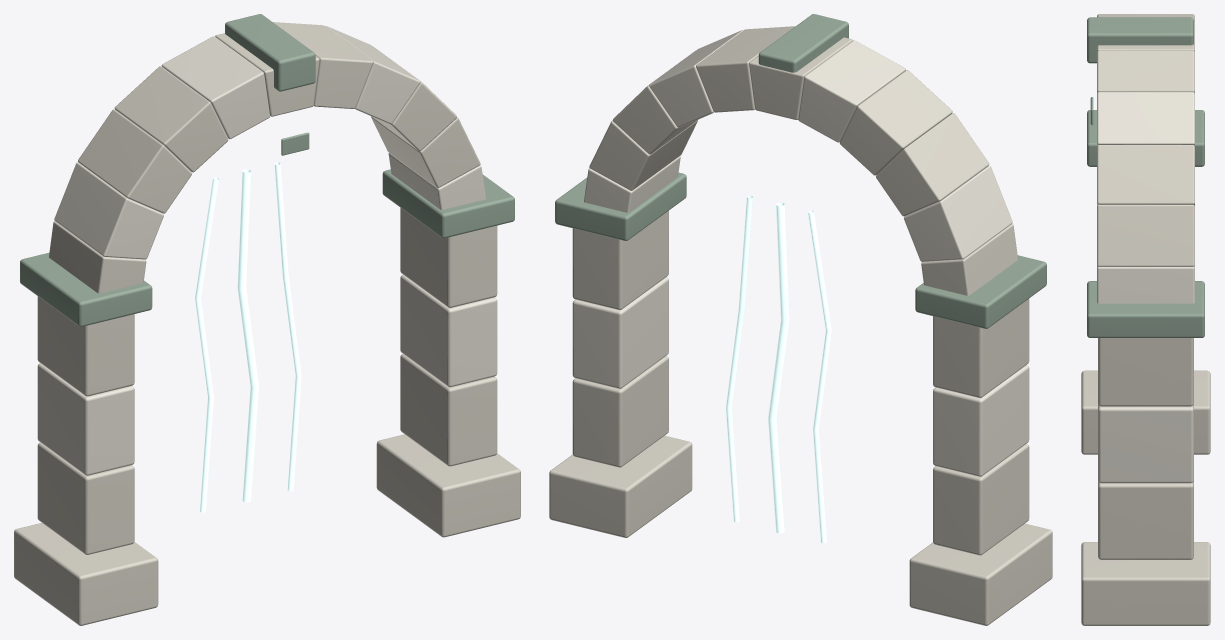
The model's file is BG_MEC_SURFACE_EXIT_001.glb.
3 renders of one model, left to right at view 1: azimuth 30°, elevation 25°; view 2: azimuth 150°, elevation 25°; view 3: azimuth 270°, elevation 25°, orthographic. The views are drawn at different scales.
Parts seen in each view (by area): view 1: Dressed frame foot 1, Dressed frame foot -1, Frame pier 1 1, Frame pier -1 0, Frame pier 1 0, Frame pier -1 1, Frame pier 1 2, Frame pier -1 2, Frame vault 8, Frame vault 7, Frame vault 9, Frame vault 6 (+13 smaller); view 2: Dressed frame foot 1, Dressed frame foot -1, Frame pier -1 0, Frame pier 1 1, Frame pier 1 0, Frame pier -1 1, Frame pier 1 2, Frame pier -1 2, Frame vault 8, Frame vault 7, Frame vault 9, Frame vault 6 (+13 smaller); view 3: Dressed frame foot 1, Frame pier 1 1, Frame pier 1 0, Frame pier 1 2, Frame vault 1, Frame vault 2, Frame vault 3, Frame impost 1, Frame vault 4, Frame vault 0, Quiet keystone, Dressed frame foot -1 (+3 smaller).
Boxes of the visible parts, box(x1,y1,x2,y2) form: Dressed frame foot 1: box(376, 434, 520, 537); Dressed frame foot -1: box(14, 523, 158, 625); Frame pier 1 1: box(400, 274, 497, 387); Frame pier -1 0: box(37, 442, 134, 554); Frame pier 1 0: box(400, 354, 497, 466); Frame pier -1 1: box(37, 363, 134, 475); Frame pier 1 2: box(400, 208, 497, 307); Frame pier -1 2: box(37, 296, 134, 396); Frame vault 8: box(78, 109, 191, 213); Frame vault 7: box(114, 66, 228, 172); Frame vault 9: box(54, 162, 163, 259); Frame vault 6: box(161, 36, 269, 139); Dressed frame foot 1: box(549, 435, 692, 537); Dressed frame foot -1: box(909, 523, 1052, 625); Frame pier -1 0: box(933, 443, 1029, 555); Frame pier 1 1: box(572, 277, 668, 388); Frame pier 1 0: box(572, 356, 668, 467); Frame pier -1 1: box(933, 365, 1029, 476); Frame pier 1 2: box(572, 210, 668, 309); Frame pier -1 2: box(933, 298, 1029, 397); Frame vault 8: box(876, 113, 989, 216); Frame vault 7: box(839, 70, 952, 175); Frame vault 9: box(904, 166, 1012, 261); Frame vault 6: box(798, 40, 905, 142); Dressed frame foot 1: box(1081, 542, 1210, 625); Frame pier 1 1: box(1098, 404, 1193, 483); Frame pier 1 0: box(1098, 480, 1193, 559); Frame pier 1 2: box(1098, 338, 1193, 406); Frame vault 1: box(1097, 204, 1194, 266); Frame vault 2: box(1097, 145, 1194, 205); Frame vault 3: box(1097, 92, 1194, 146); Frame impost 1: box(1087, 281, 1204, 337); Frame vault 4: box(1097, 50, 1194, 93); Frame vault 0: box(1097, 265, 1194, 303); Quiet keystone: box(1087, 17, 1193, 63); Dressed frame foot -1: box(1081, 370, 1210, 454).
Size of the model in its own units: 2.22 by 2.47 by 0.58.
4 materials, 1 textured.
